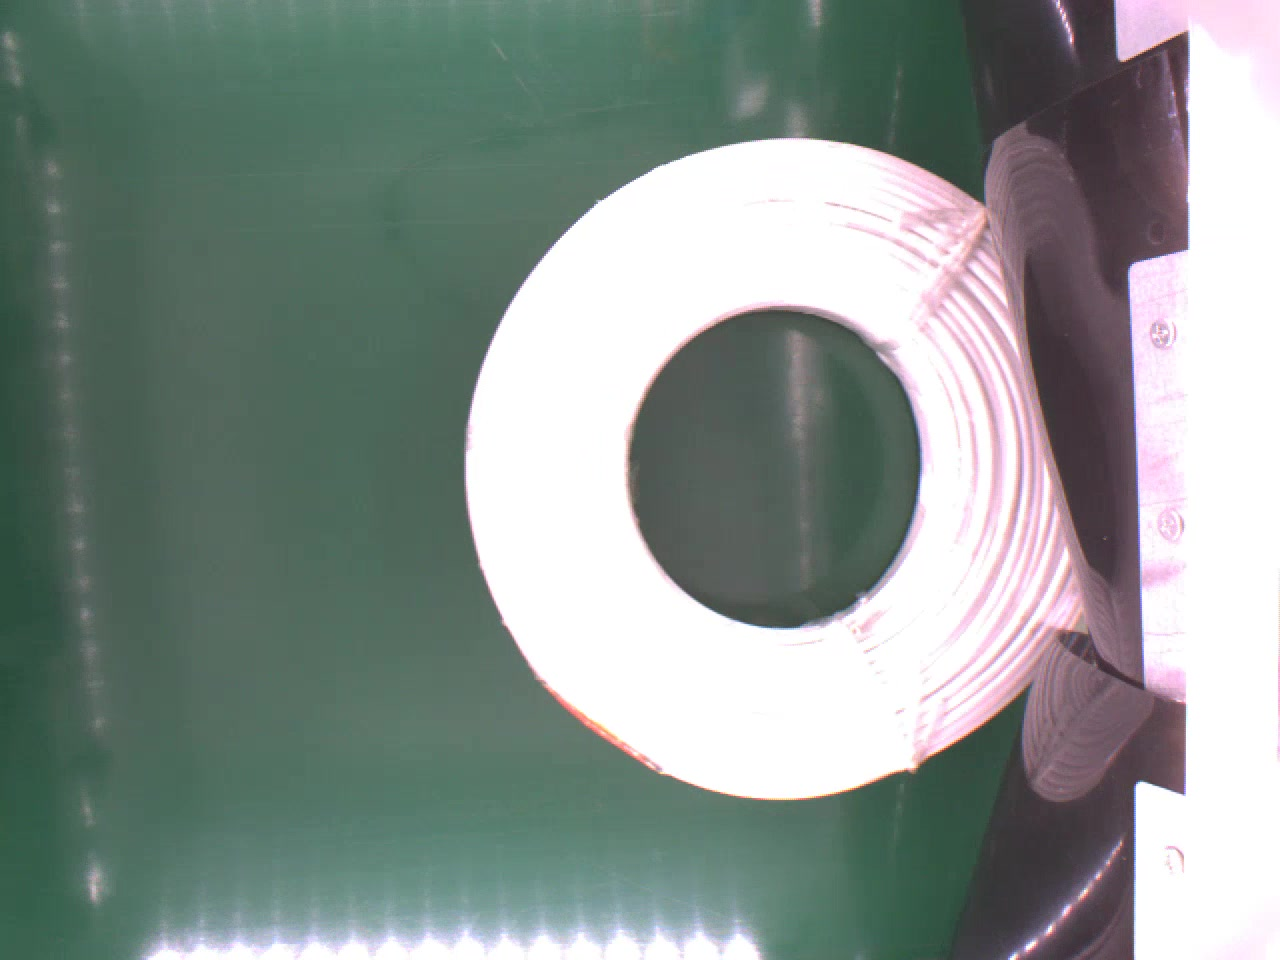white: (468, 134, 1084, 805)
